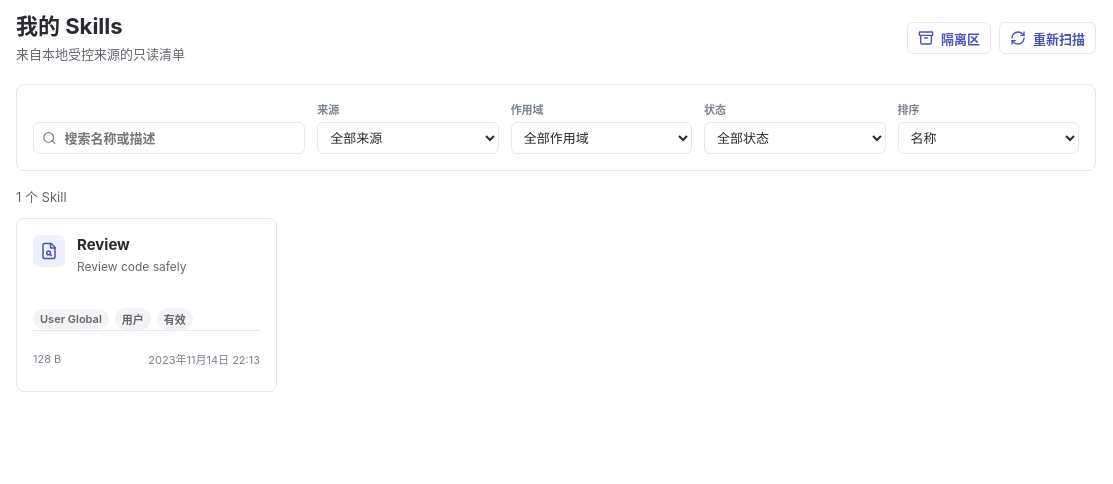
Test: SkillsPage › filters the cached catalog without sending a request per search input
Check: the heading "Review" is shown, box x1=77 y1=235 x2=130 y2=254
In the field named "搜索 Skill": point(180, 138) x1=65 y1=130 x2=296 y2=146, type "audit"
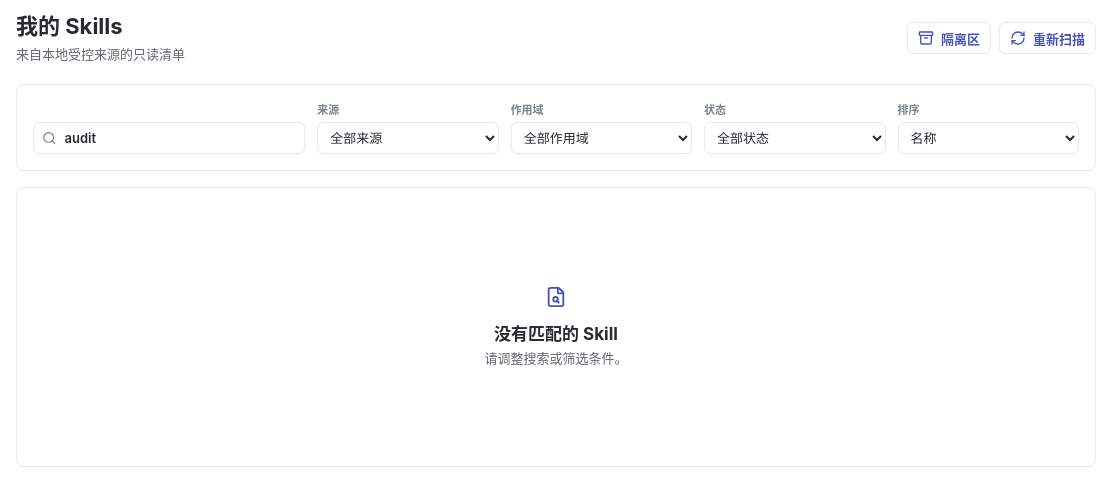
Check: the heading "没有匹配的 Skill" is shown, box x1=494 y1=320 x2=618 y2=345
